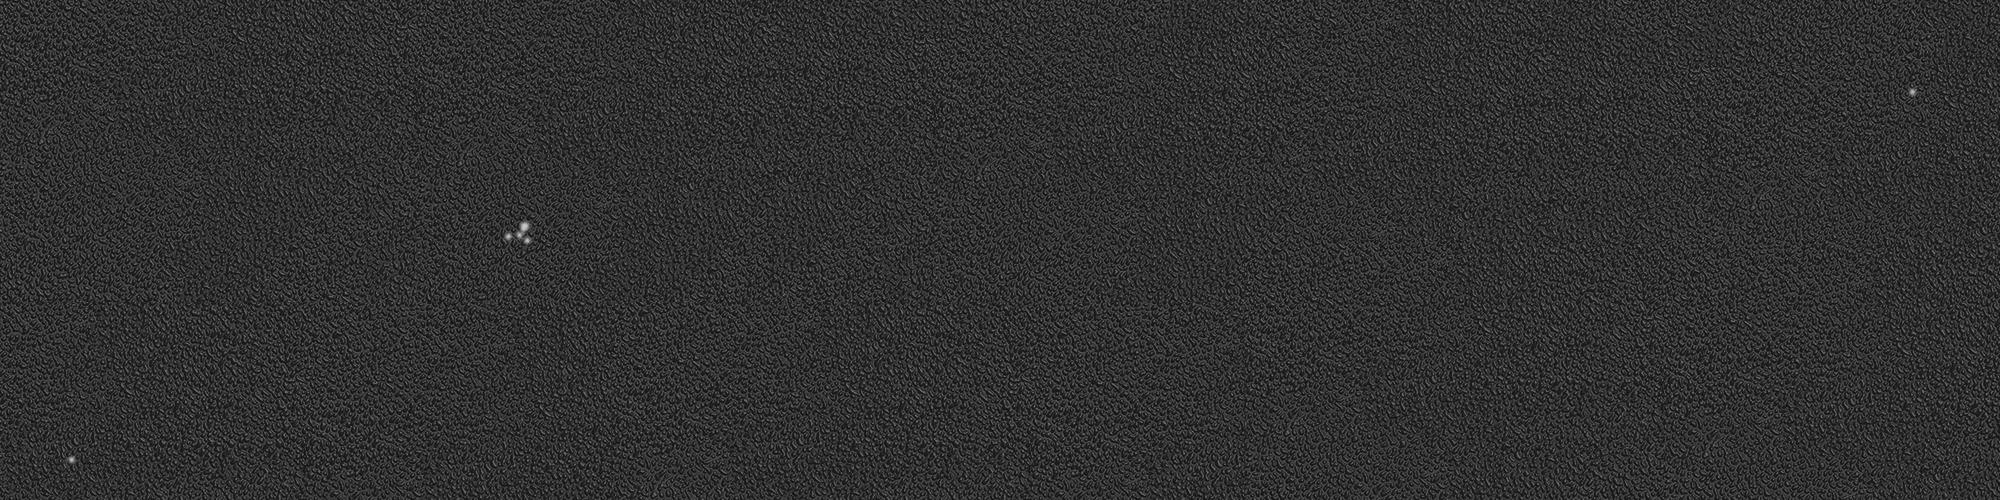Particles: (65, 452, 82, 467), (1906, 87, 1920, 99), (515, 223, 529, 235), (501, 231, 517, 241), (514, 233, 526, 240), (522, 240, 531, 247)
